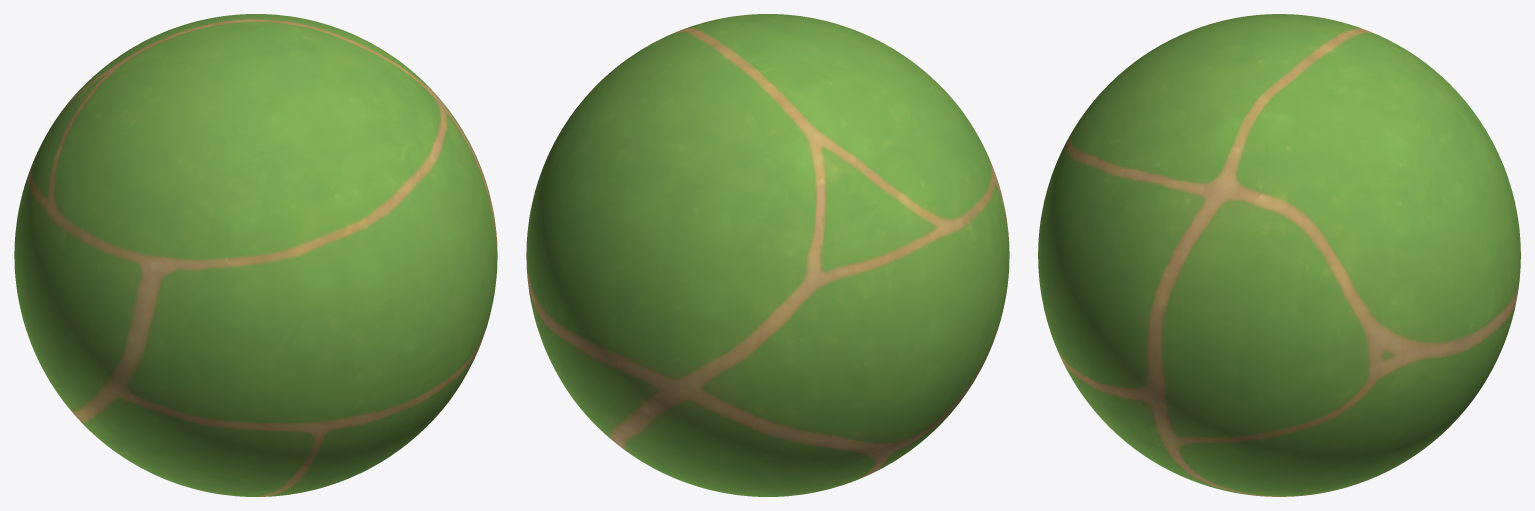
The model's file is world.obj.
The picture shows the model from 3 angles, left to right: view 1: azimuth 30°, elevation 25°; view 2: azimuth 150°, elevation 25°; view 3: azimuth 270°, elevation 25°; orthographic projection.
Parts seen in each view (by area): view 1: world; view 2: world; view 3: world.
Part boxes in pixels (box(x1,y1,x2,y2)): world: box(14, 14, 497, 496); world: box(526, 14, 1009, 496); world: box(1038, 14, 1520, 496).
Size of the model in its own units: 100 by 100 by 100.
